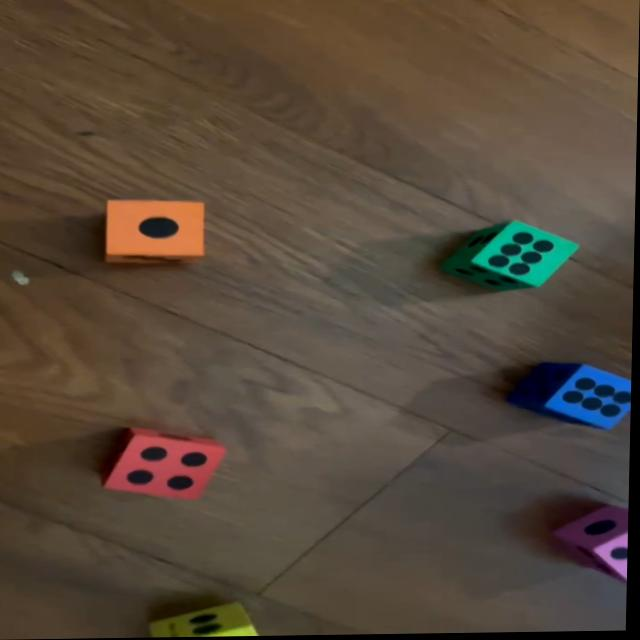cube: (442, 221, 582, 294), (105, 427, 231, 499), (510, 364, 634, 433)
